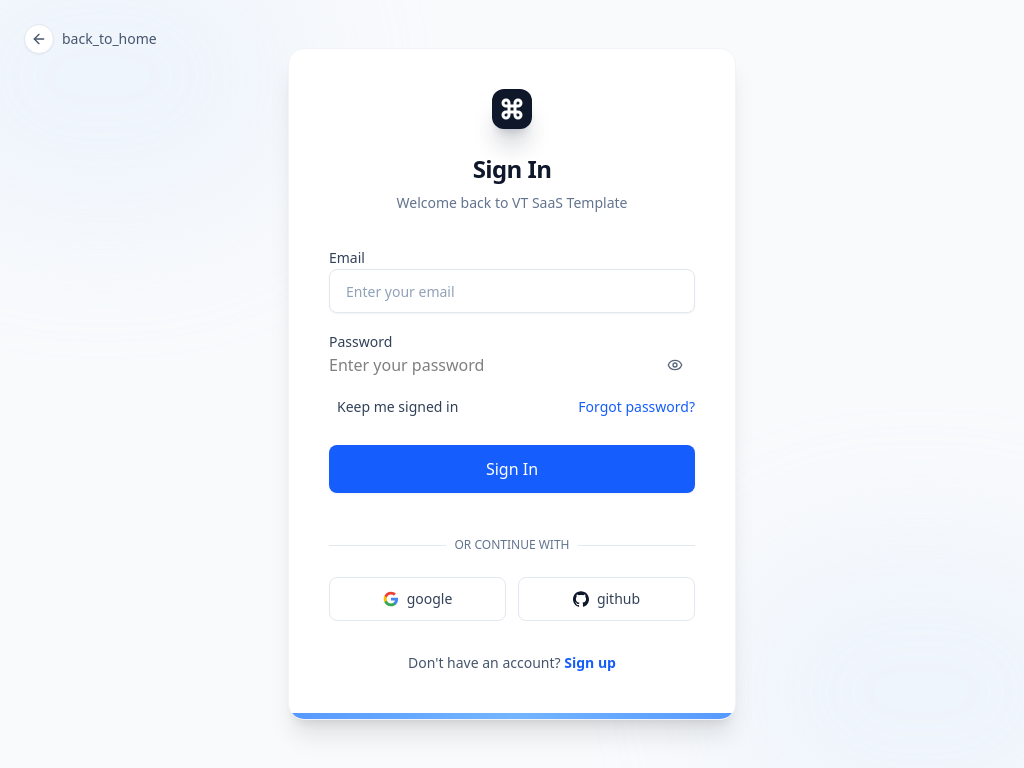
Scenario: SignInFormClient › shows validation error for invalid email format
The width and height of the screenshot is (1024, 768).
Type "invalid-email" into the field labelled "Email" at (512, 291), box 329,269 -> 695,313
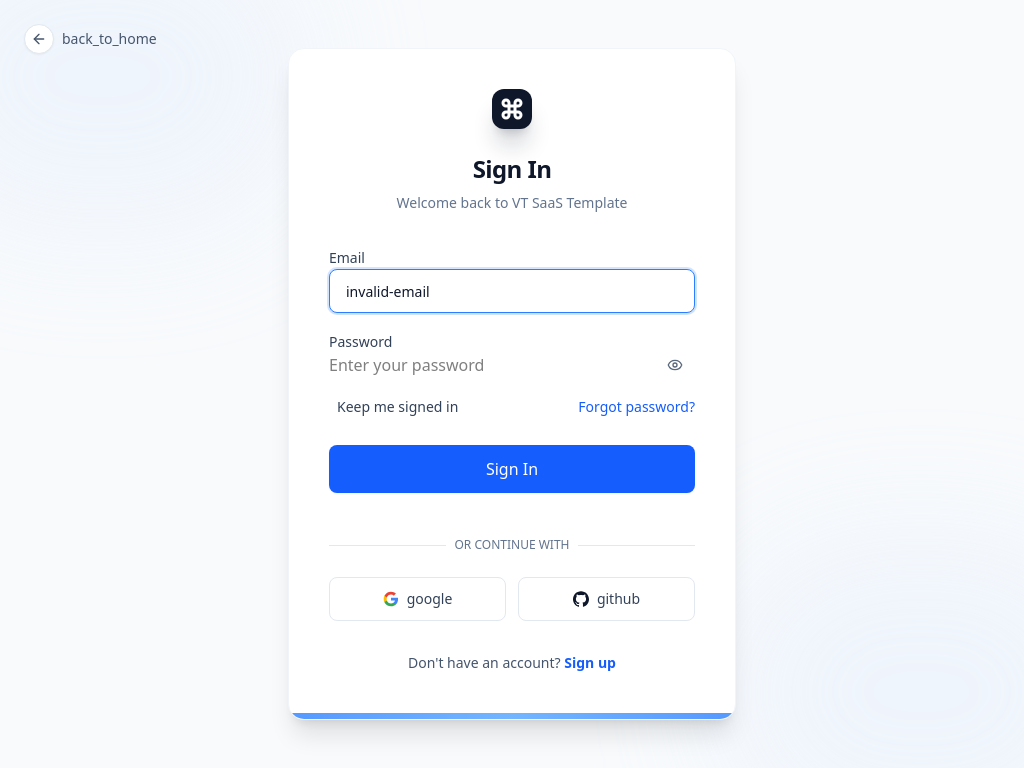
Click the button "Sign In" at (512, 469), box 329,445 -> 695,493
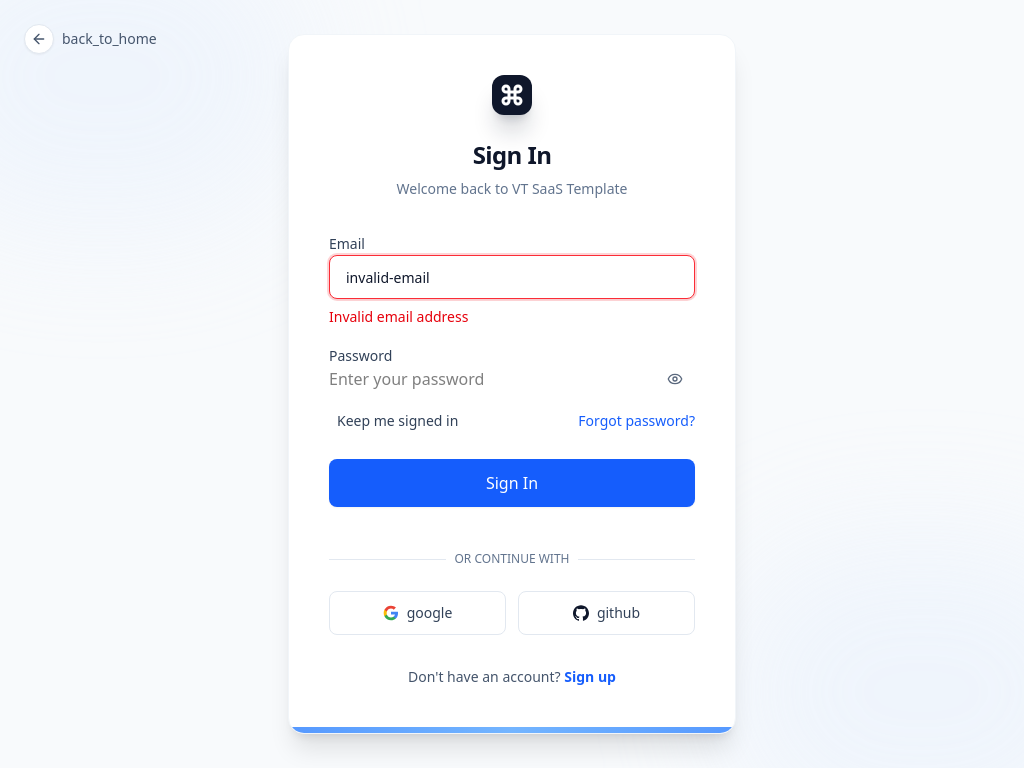
Check: the text "Invalid email address" is shown, box 329,307 -> 468,326
